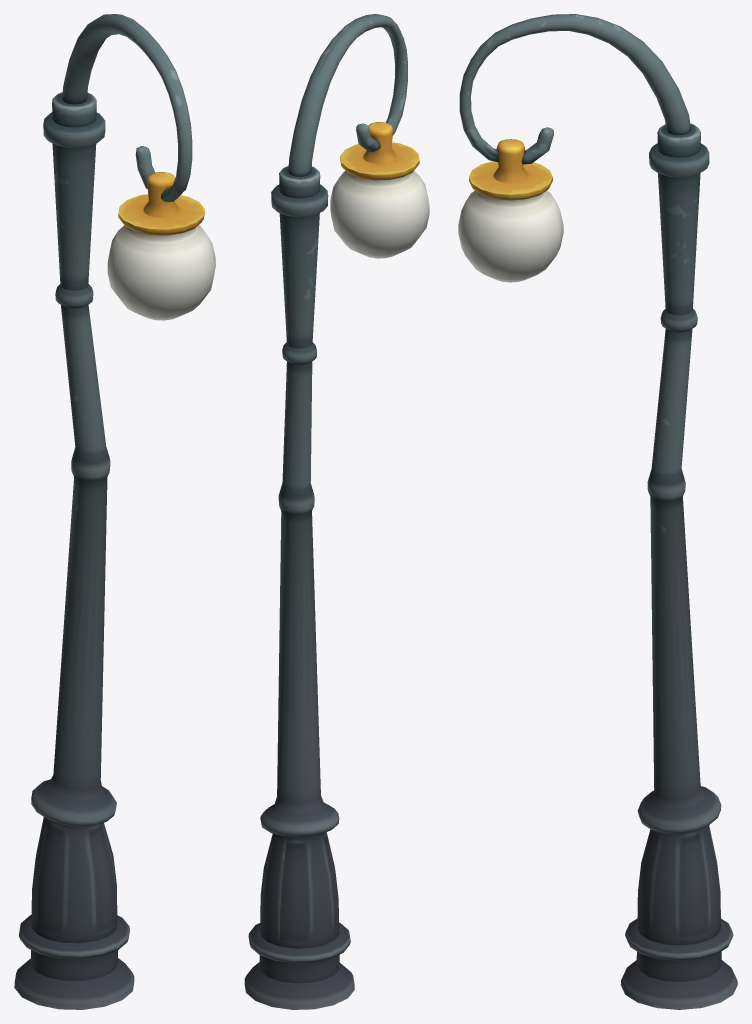
The model's file is StreetLamp02_1.FBX.
3 views of the same model, side by side, from view 1: azimuth 30°, elevation 25°; view 2: azimuth 150°, elevation 25°; view 3: azimuth 270°, elevation 25° (orthographic). The views are drawn at different scales.
Parts seen in each view (by area): view 1: StreetLamp02_1; view 2: StreetLamp02_1; view 3: StreetLamp02_1.
Part boxes in pixels (x1,y1,x2,y2): StreetLamp02_1: [14, 14, 215, 1009]; StreetLamp02_1: [244, 14, 429, 1009]; StreetLamp02_1: [458, 14, 737, 1009].
Size of what is drawn, in the model's own units: 0.4767 by 4.37 by 1.14.
